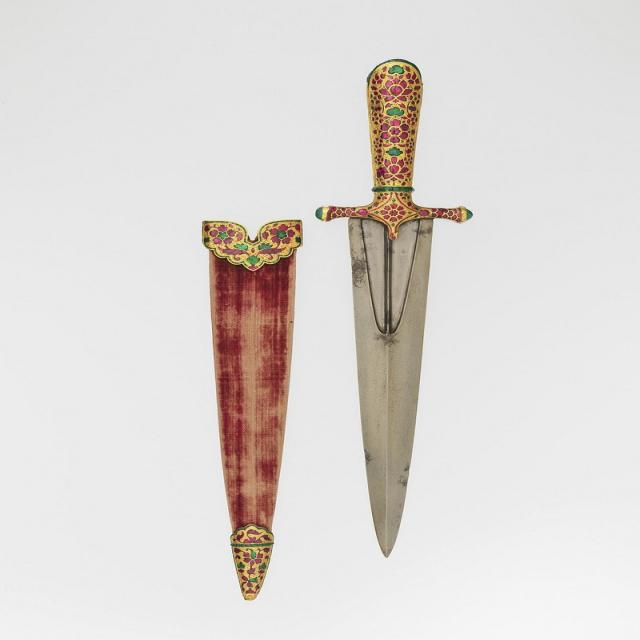knife: (318, 57, 473, 559)
